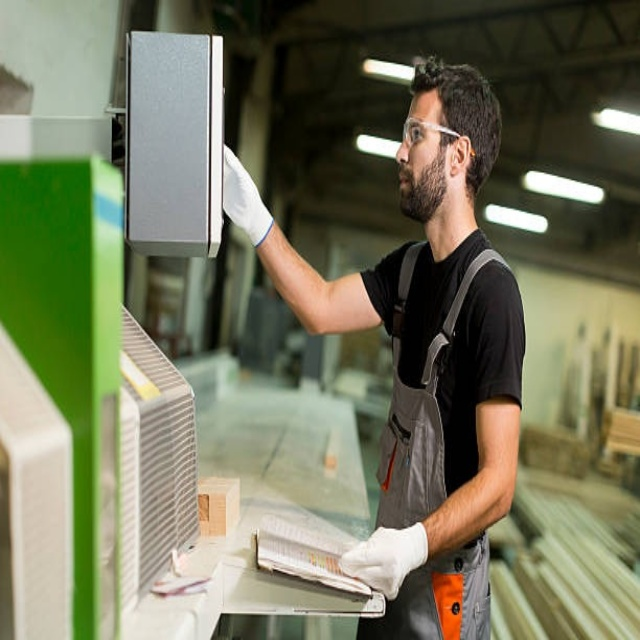Gafas: (405, 119, 474, 156)
Guantes: (339, 521, 429, 601), (222, 142, 274, 248)
Sin_mascara: (397, 168, 417, 210)
